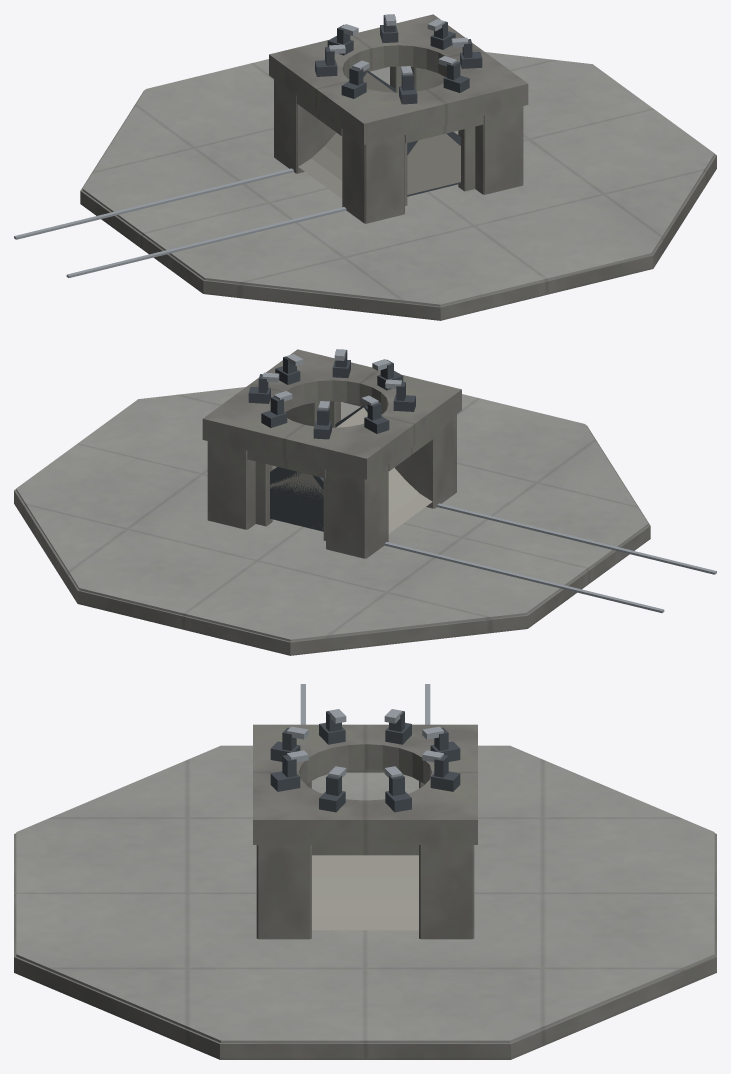
Rendered from pedestal_lc34.glb.
3 views of the same model, one above another, from view 1: azimuth 30°, elevation 25°; view 2: azimuth 150°, elevation 25°; view 3: azimuth 270°, elevation 25° (orthographic). The views are drawn at different scales.
Parts seen in each view (by area): view 1: hardstand, pedestal_lc34, deflector_wedge, holddown; view 2: hardstand, pedestal_lc34, deflector_wedge, holddown; view 3: hardstand, pedestal_lc34, deflector_wedge, holddown.
Boxes of the visible parts, x1,y1,x2,y2 form: hardstand: (80, 52, 716, 320); pedestal_lc34: (14, 14, 528, 277); deflector_wedge: (298, 70, 460, 198); holddown: (315, 14, 482, 104); hardstand: (14, 387, 650, 655); pedestal_lc34: (202, 349, 716, 612); deflector_wedge: (270, 405, 432, 533); holddown: (248, 349, 415, 439); hardstand: (14, 745, 716, 1059); pedestal_lc34: (253, 684, 477, 939); deflector_wedge: (312, 855, 418, 930); holddown: (270, 709, 460, 812).
Size of the model in its own units: 18.91 by 4.2 by 15.82.
5 materials, 2 textured.
